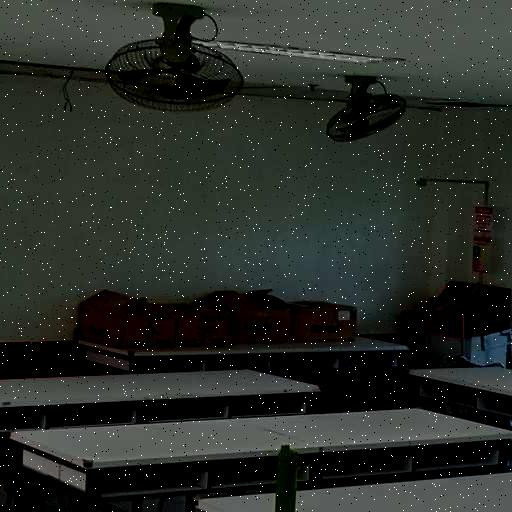Fan: (92, 0, 248, 113), (316, 69, 414, 150)
